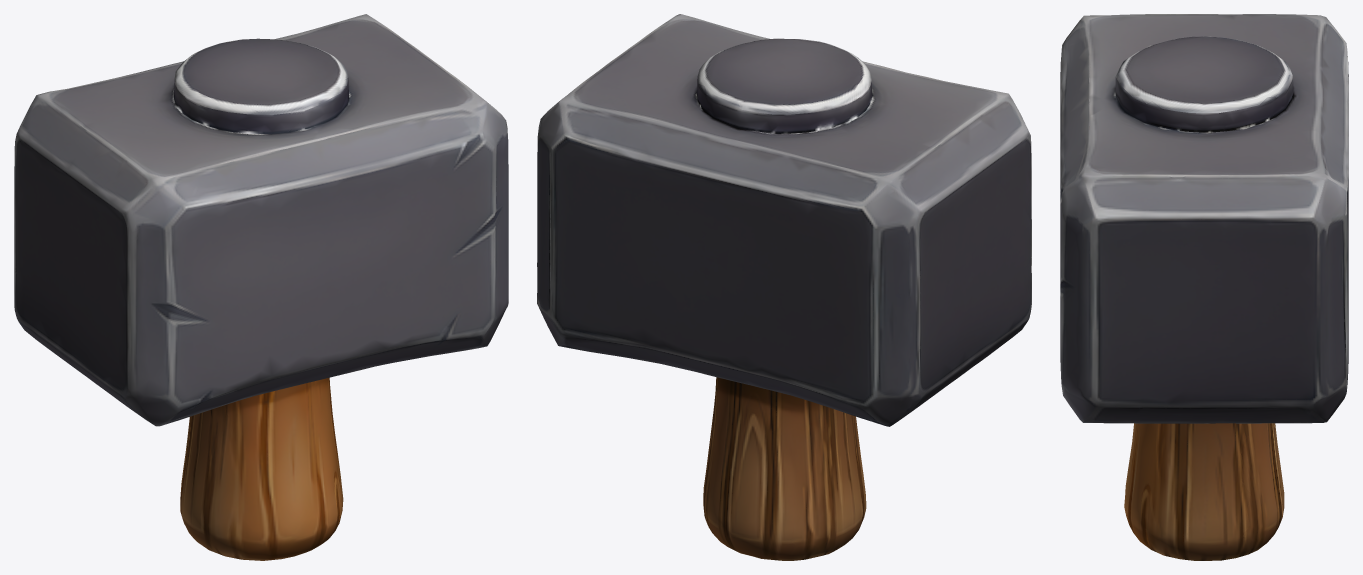
Rendered from Hammer.glb.
3 renders of one model, left to right at view 1: azimuth 30°, elevation 25°; view 2: azimuth 150°, elevation 25°; view 3: azimuth 270°, elevation 25°, orthographic.
Visible parts, largest first — view 1: input; view 2: input; view 3: input.
Boxes of the visible parts, x1,y1,x2,y2 form: input: [14, 14, 508, 560]; input: [537, 14, 1031, 560]; input: [1060, 14, 1348, 560].
Bounding box in the file's own units: 0.8625 × 0.9999 × 0.5625.
1 material, 1 textured.
